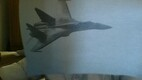maybay_muctieu: (28, 1, 111, 55)
